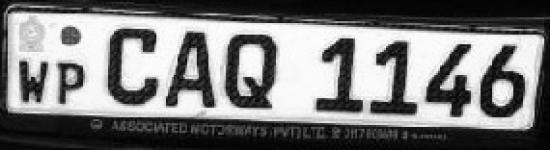1: (368, 32, 424, 120), (315, 33, 366, 118)
4: (424, 38, 475, 121)
6: (474, 38, 528, 122)
A: (163, 24, 224, 115)
C: (97, 22, 164, 110)
P: (52, 57, 92, 110)
Q: (224, 26, 292, 116)
W: (15, 55, 52, 105)
